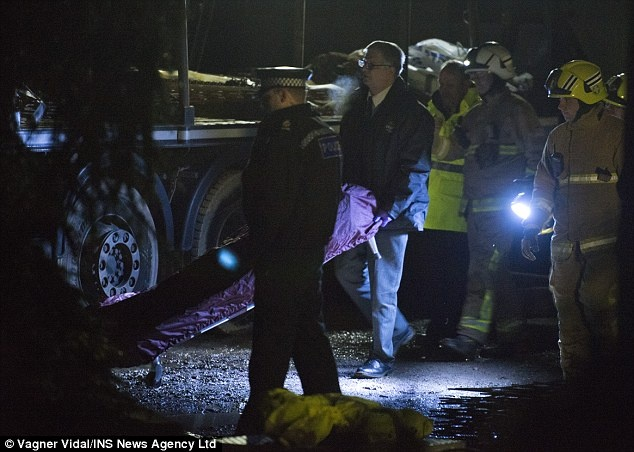none: (354, 39, 406, 99), (258, 66, 313, 119), (434, 56, 468, 107)
white: (463, 39, 515, 97)
yellow: (543, 62, 605, 122)
